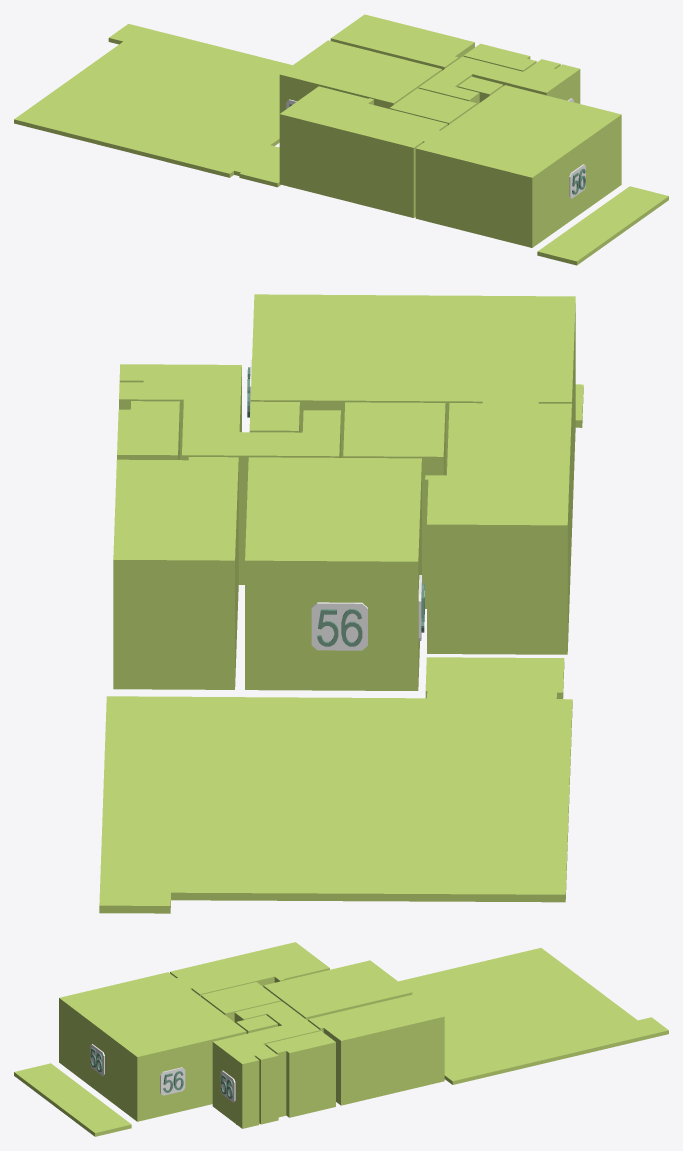
3 renders of one model, top to bottom at view 1: azimuth 30°, elevation 25°; view 2: azimuth 150°, elevation 25°; view 3: azimuth 270°, elevation 25°, orthographic. The views are drawn at different scales.
Visible parts, largest first — view 1: g_8, g_1, g_0, g_6, g_4, g_7, g_9, g_2, g_5, g_3; view 2: g_8, g_6, g_1, g_0, g_7, g_4, g_2, g_5, g_15, g_3; view 3: g_8, g_1, g_7, g_4, g_6, g_5, g_0, g_9, g_2, g_12, g_3.
Boxes of the visible parts, <box> form: g_8: <box>14,24,292,187</box>; g_1: <box>415,85,621,247</box>; g_0: <box>279,86,447,217</box>; g_6: <box>279,40,441,113</box>; g_4: <box>418,56,580,104</box>; g_7: <box>330,14,474,70</box>; g_9: <box>537,186,668,265</box>; g_2: <box>389,88,476,124</box>; g_5: <box>463,43,536,71</box>; g_3: <box>457,76,503,102</box>; g_8: <box>99,657,572,913</box>; g_6: <box>245,457,421,690</box>; g_1: <box>250,294,575,527</box>; g_0: <box>425,402,571,654</box>; g_7: <box>113,457,238,689</box>; g_4: <box>119,364,340,584</box>; g_2: <box>343,402,445,583</box>; g_5: <box>117,401,179,459</box>; g_15: <box>311,602,367,650</box>; g_3: <box>249,401,299,432</box>; g_8: <box>398,948,668,1084</box>; g_1: <box>59,972,246,1121</box>; g_7: <box>308,994,444,1105</box>; g_4: <box>212,1001,320,1128</box>; g_6: <box>263,960,412,1020</box>; g_5: <box>265,1031,335,1117</box>; g_0: <box>170,942,329,996</box>; g_9: <box>14,1063,131,1136</box>; g_2: <box>200,982,280,1021</box>; g_12: <box>160,1067,185,1095</box>; g_3: <box>236,1015,277,1033</box>.
Bounding box in the file's own units: 15.82 × 2.74 × 23.62.
